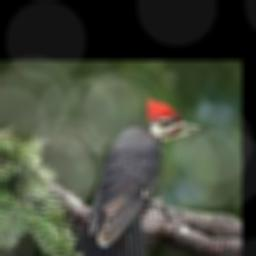Woodpecker: (74, 96, 204, 256)
